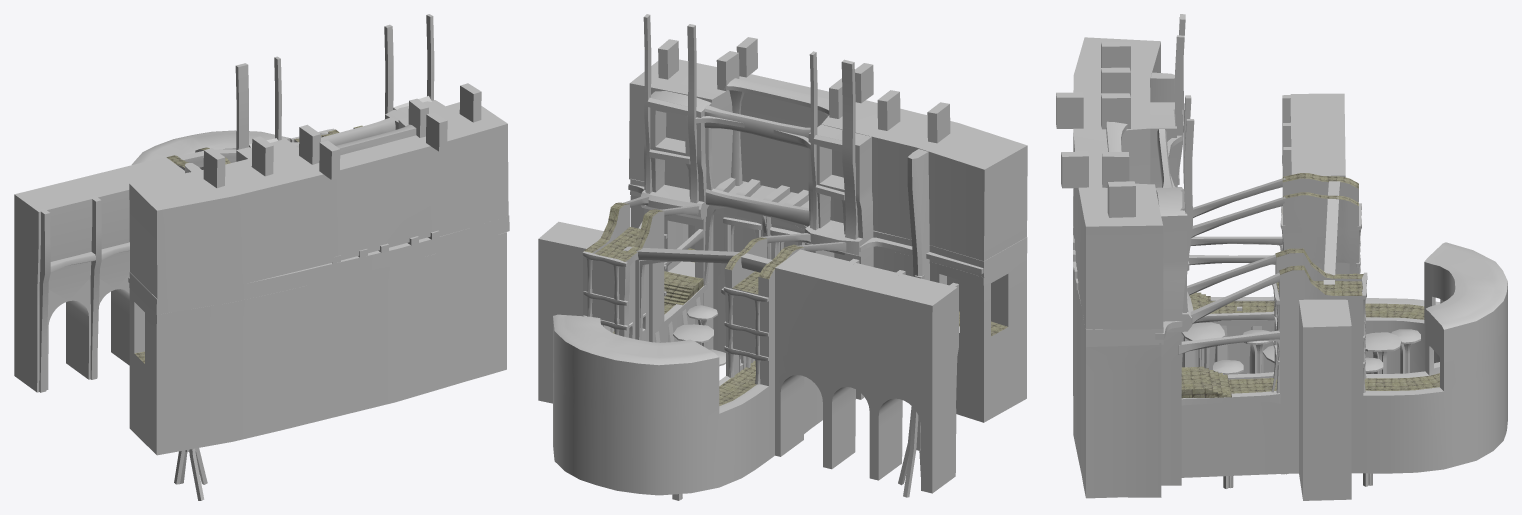
The model's file is SM_Corridor_04_00.fbx.
3 views of the same model, side by side, from view 1: azimuth 30°, elevation 25°; view 2: azimuth 150°, elevation 25°; view 3: azimuth 270°, elevation 25° (orthographic). The views are drawn at different scales.
Visible parts, largest first — view 1: SM_Corridor_04_00; view 2: SM_Corridor_04_00; view 3: SM_Corridor_04_00.
Part boxes in pixels (x1=…): SM_Corridor_04_00: x1=14, y1=14, x2=509, y2=500; SM_Corridor_04_00: x1=538, y1=14, x2=1027, y2=500; SM_Corridor_04_00: x1=1056, y1=14, x2=1507, y2=500.
Bounding box in the file's own units: 7485 × 7711 × 6944.
